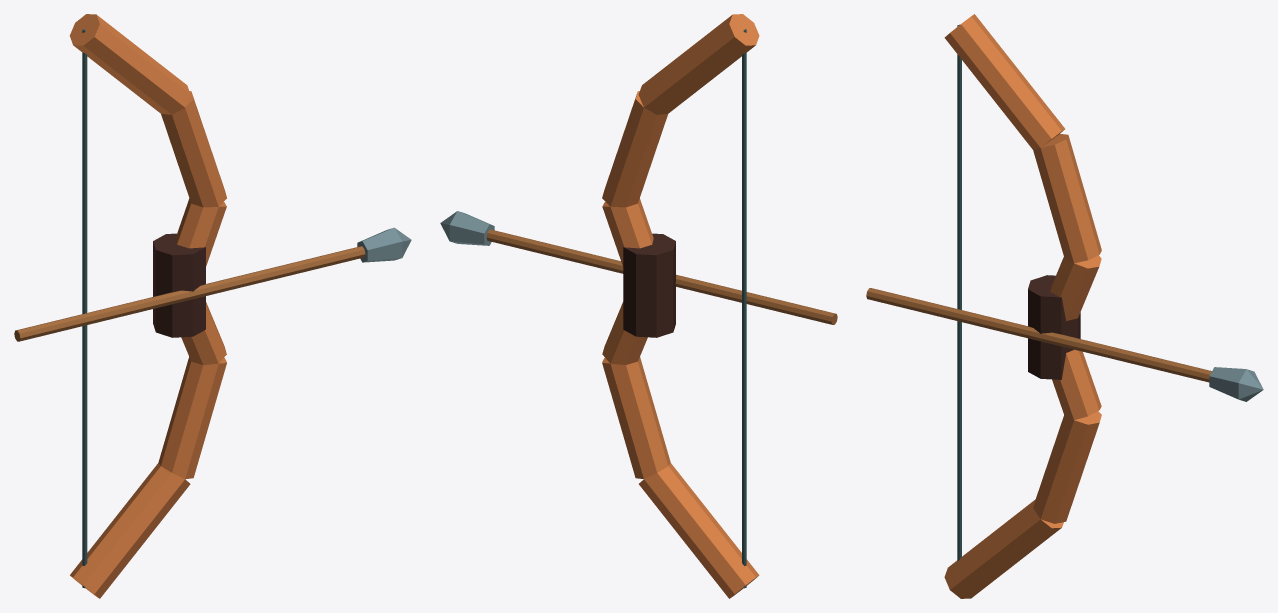
Rendered from Copper_Bow.gltf.
3 views of the same model, side by side, from view 1: azimuth 30°, elevation 25°; view 2: azimuth 150°, elevation 25°; view 3: azimuth 330°, elevation 25° (orthographic).
Parts seen in each view (by area): view 1: BowLimb_0, BowLimb_5, BowLimb_1, Arrow_8, Grip_7, BowLimb_4, BowString_6, BowLimb_3, BowLimb_2, Arrowhead_9; view 2: BowLimb_0, BowLimb_5, Grip_7, BowLimb_1, BowLimb_4, Arrow_8, BowString_6, BowLimb_3, BowLimb_2, Arrowhead_9; view 3: BowLimb_5, BowLimb_4, BowLimb_0, Arrow_8, BowLimb_1, Grip_7, BowString_6, BowLimb_2, BowLimb_3, Arrowhead_9.
Boxes of the visible parts, x1,y1,x2,y2 form: BowLimb_0: (70,463,190,598); BowLimb_5: (69,14,190,114); BowLimb_1: (158,357,226,479); Arrow_8: (14,246,365,341); Grip_7: (153,233,205,337); BowLimb_4: (161,91,226,207); BowString_6: (82,29,87,588); BowLimb_3: (175,198,226,266); BowLimb_2: (181,302,226,364); Arrowhead_9: (357,227,411,262); BowLimb_0: (639,463,759,598); BowLimb_5: (638,14,759,114); Grip_7: (623,233,675,337); BowLimb_1: (602,357,670,478); BowLimb_4: (602,91,667,207); Arrow_8: (486,229,837,324); BowString_6: (742,29,746,588); BowLimb_3: (602,198,653,266); BowLimb_2: (602,302,647,364); Arrowhead_9: (440,211,494,245); BowLimb_5: (944,14,1064,149); BowLimb_4: (1033,134,1101,263); BowLimb_0: (944,499,1063,598); Arrow_8: (866,288,1211,382); BowLimb_1: (1033,411,1101,523); Grip_7: (1028,275,1080,379); BowString_6: (957,24,961,560); BowLimb_2: (1052,349,1101,420); BowLimb_3: (1050,255,1101,320); Arrowhead_9: (1209,367,1263,401).
Bounding box in the file's own units: 2 × 2.82 × 0.2893.
